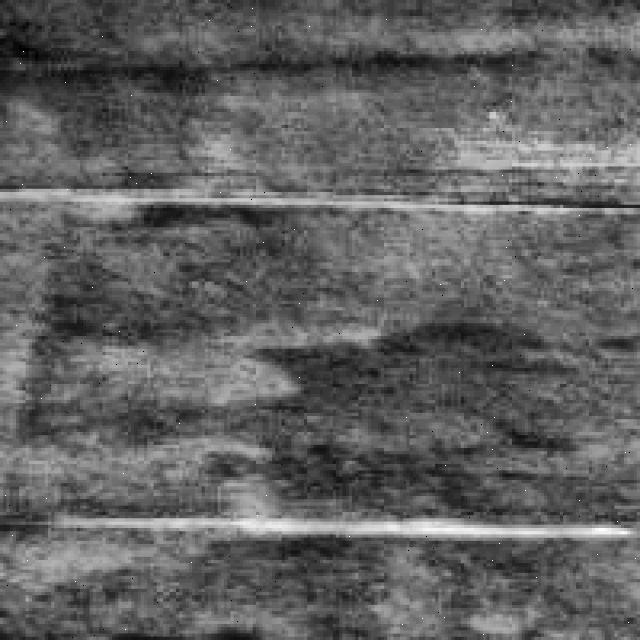Inclusion: (67, 499, 637, 544)
